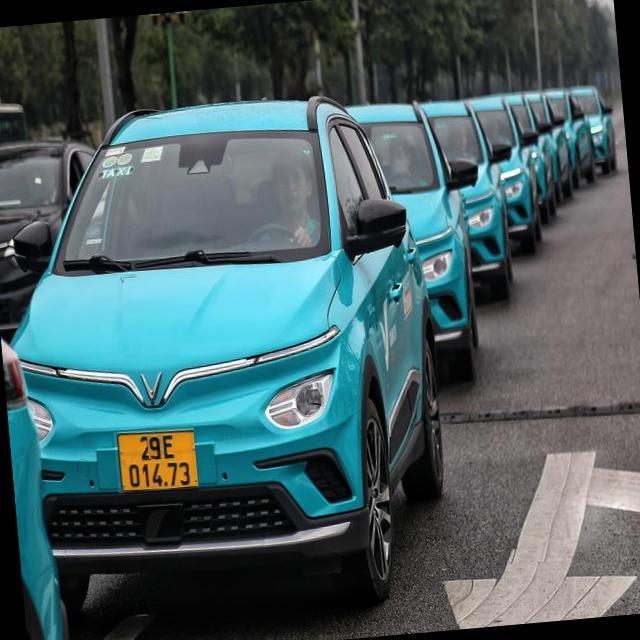car: (5, 104, 416, 617)
plate: (111, 422, 205, 495)
